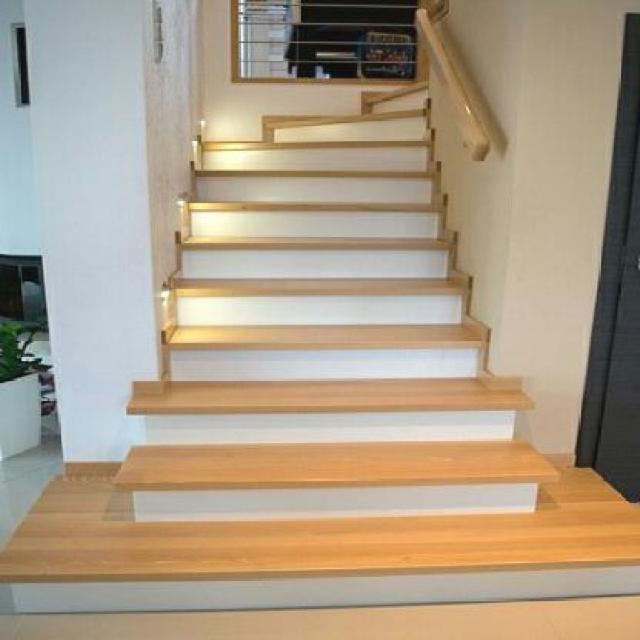stair: (27, 61, 536, 608)
